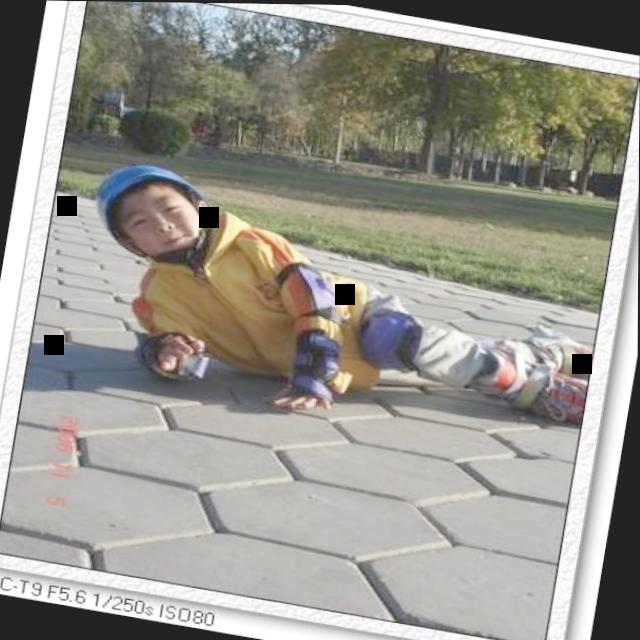Fall-Detected: (86, 147, 601, 449)
